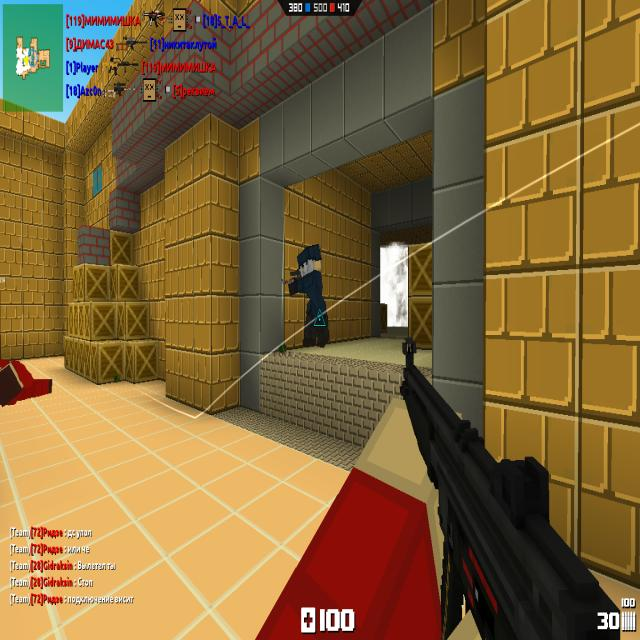enemy: (288, 241, 330, 348)
